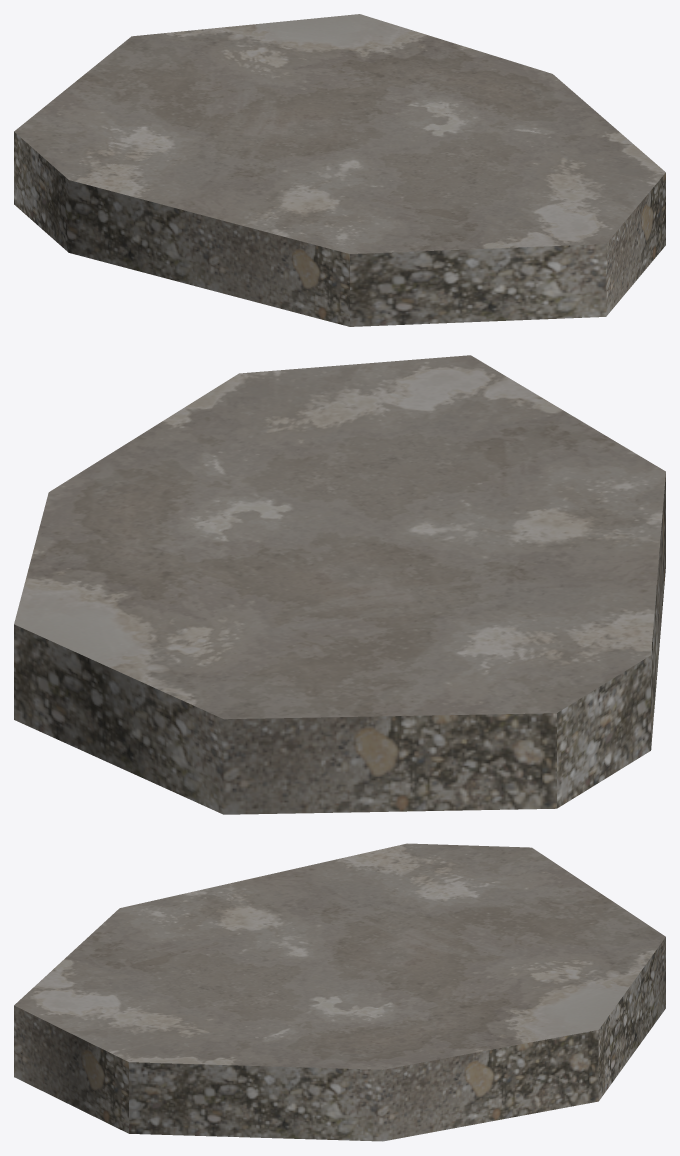
Rendered from Rubble_C.fbx.
3 views of the same model, one above another, from view 1: azimuth 30°, elevation 25°; view 2: azimuth 150°, elevation 25°; view 3: azimuth 270°, elevation 25° (orthographic). The views are drawn at different scales.
Parts seen in each view (by area): view 1: Rubble, Broken_Concrete; view 2: Rubble, Broken_Concrete; view 3: Rubble, Broken_Concrete.
Boxes of the visible parts, <box> form: Rubble: <box>14,14,665,253</box>; Broken_Concrete: <box>14,132,665,326</box>; Rubble: <box>14,355,665,719</box>; Broken_Concrete: <box>14,474,665,814</box>; Rubble: <box>14,843,665,1069</box>; Broken_Concrete: <box>14,937,665,1141</box>.
Bounding box in the file's own units: 136 × 20 × 165.
